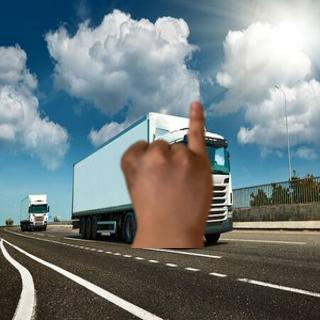FINE: (118, 97, 220, 234)
